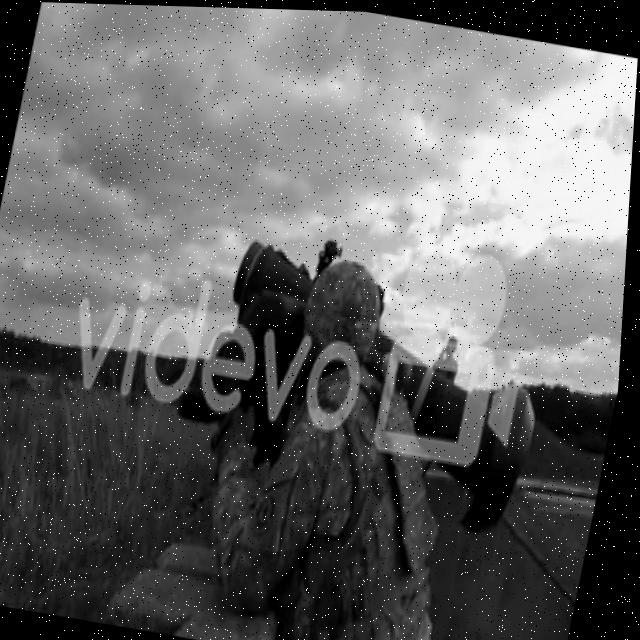rocket: (195, 236, 568, 524)
